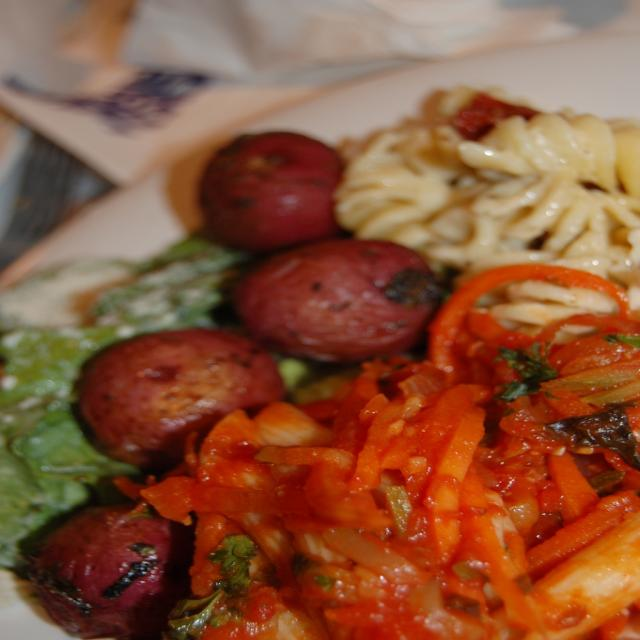Healty Apple: (193, 132, 342, 247)
